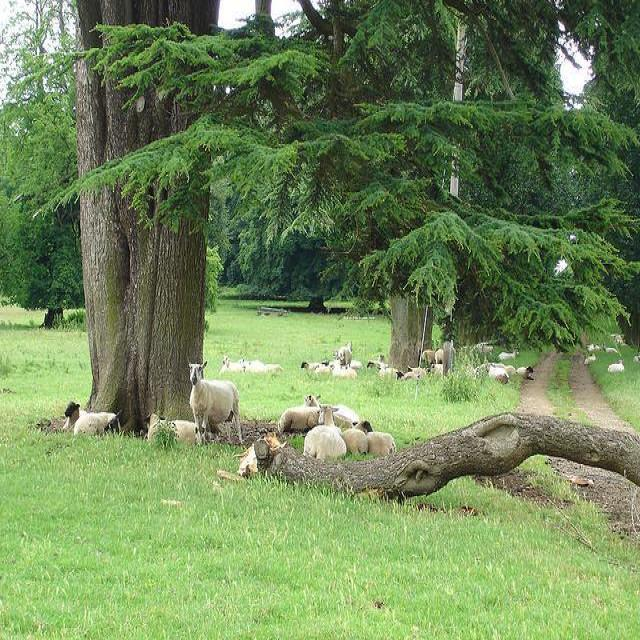Sheep: (142, 327, 627, 473), (189, 361, 242, 447), (305, 404, 346, 461)
